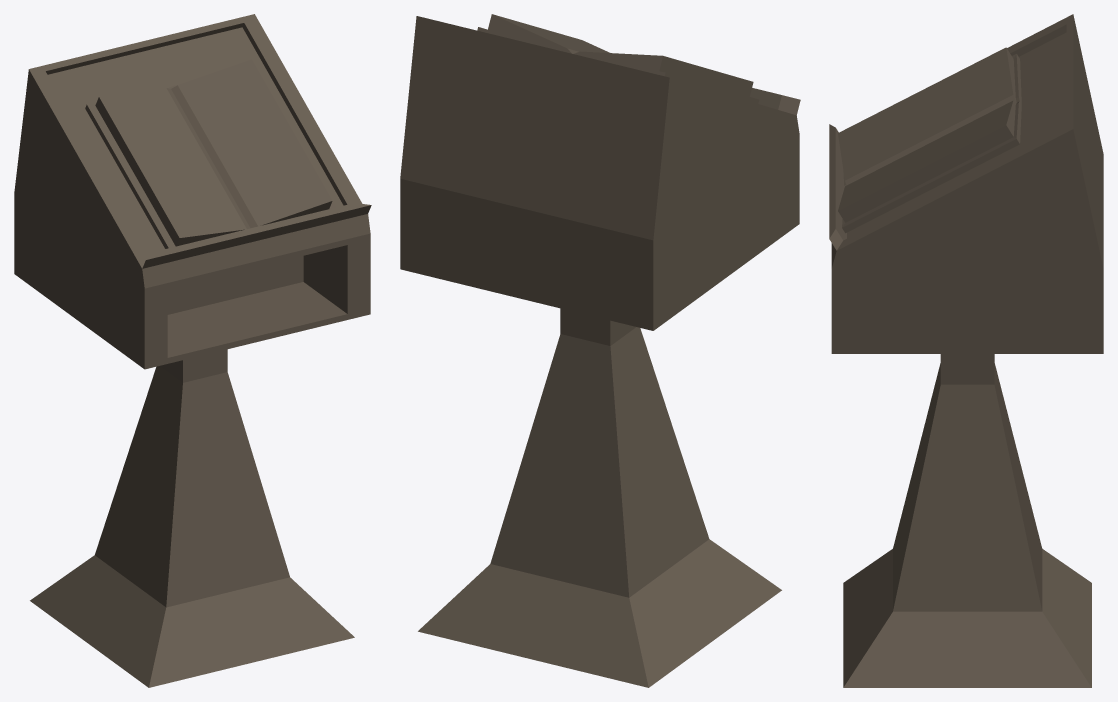
Rendered from Book Stand.004.fbx.
The picture shows the model from 3 angles, left to right: view 1: azimuth 30°, elevation 25°; view 2: azimuth 150°, elevation 25°; view 3: azimuth 270°, elevation 25°; orthographic projection. The views are drawn at different scales.
Parts seen in each view (by area): view 1: Book Stand.004; view 2: Book Stand.004; view 3: Book Stand.004.
Part boxes in pixels (left/top/right/bottom): Book Stand.004: left=14, top=14, right=371, bottom=687; Book Stand.004: left=400, top=14, right=800, bottom=687; Book Stand.004: left=829, top=14, right=1103, bottom=687.
Size of the model in its own units: 72.47 by 166 by 73.07.
